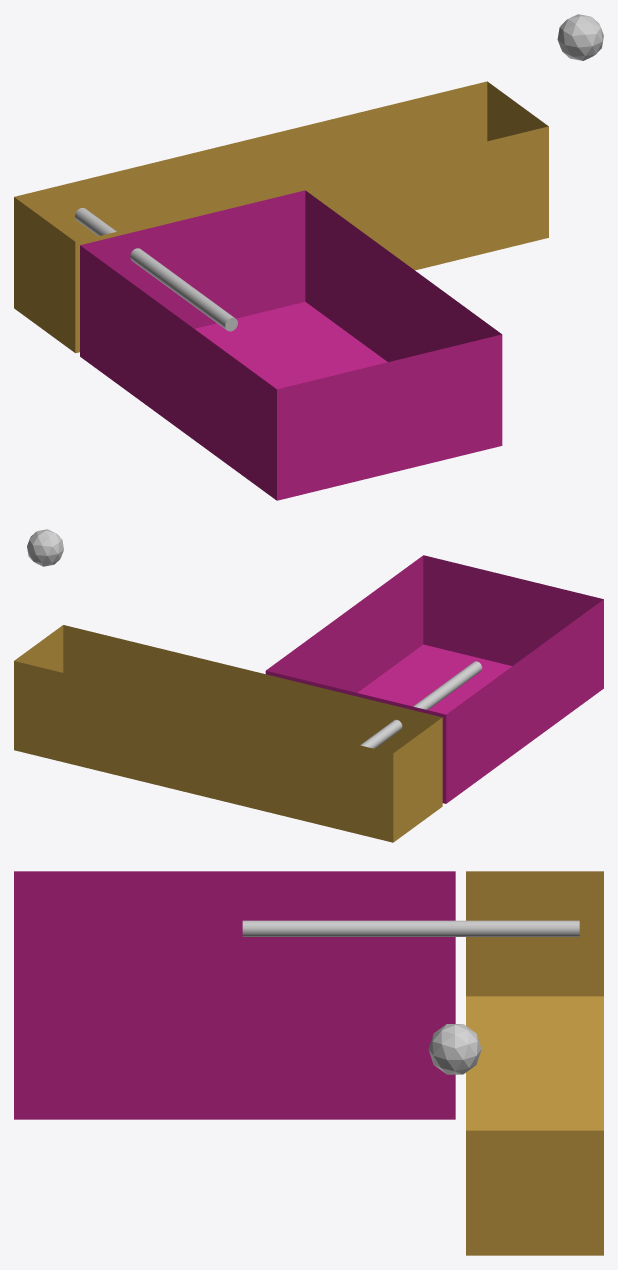
Rendered from room.obj.
3 renders of one model, top to bottom at view 1: azimuth 30°, elevation 25°; view 2: azimuth 150°, elevation 25°; view 3: azimuth 270°, elevation 25°, orthographic. The views are drawn at different scales.
Visible parts, largest first — view 1: Cube, Cube.001, Cylinder, Icosphere; view 2: Cube.001, Cube, Cylinder, Icosphere; view 3: Cube, Cube.001, Cylinder, Icosphere.
Boxes of the visible parts, x1,y1,x2,y2 form: Cube: (80,190,502,500); Cube.001: (14,81,548,353); Cylinder: (75,207,237,331); Icosphere: (557,14,603,60); Cube.001: (14,625,442,842); Cube: (265,555,603,803); Cylinder: (360,661,482,748); Icosphere: (27,529,63,566); Cube: (14,871,455,1119); Cube.001: (466,871,603,1255); Cylinder: (242,920,579,936); Icosphere: (428,1024,481,1074).
Size of the model in its own units: 9.76 by 3.92 by 8.55.
